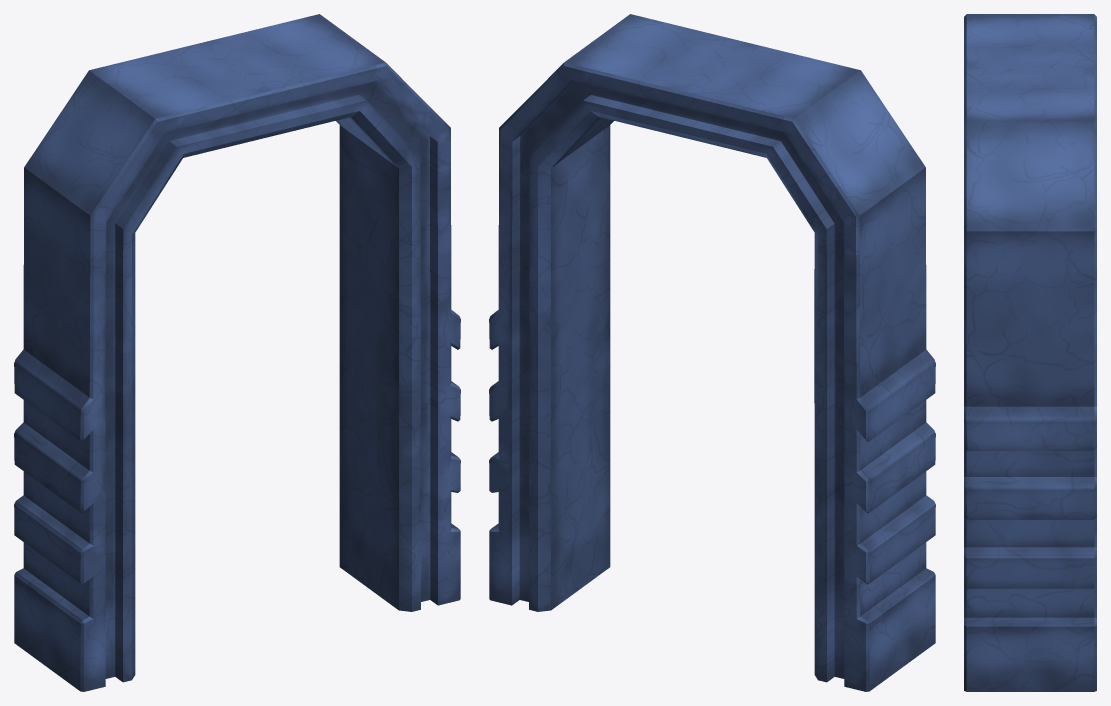
Rendered from puertaMarco.fbx.
3 views of the same model, side by side, from view 1: azimuth 30°, elevation 25°; view 2: azimuth 150°, elevation 25°; view 3: azimuth 270°, elevation 25° (orthographic). The views are drawn at different scales.
Visible parts, largest first — view 1: puertaMarco; view 2: puertaMarco; view 3: puertaMarco.
Part boxes in pixels (<box>): puertaMarco: <box>14,14,460,691</box>; puertaMarco: <box>489,14,935,691</box>; puertaMarco: <box>964,14,1096,691</box>.
Size of the model in its own units: 200 by 279 by 62.72.
